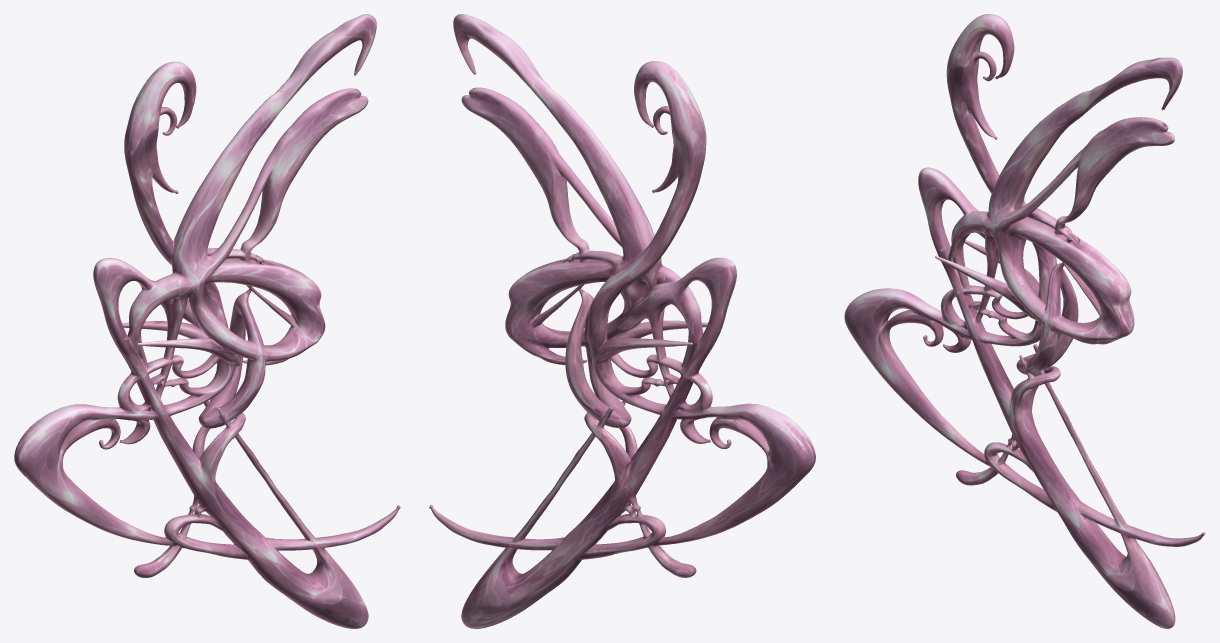
The model's file is embrace.glb.
The picture shows the model from 3 angles, left to right: view 1: azimuth 30°, elevation 25°; view 2: azimuth 150°, elevation 25°; view 3: azimuth 330°, elevation 25°; orthographic projection. The views are drawn at different scales.
Visible parts, largest first — view 1: tripo_node_296e4315-7852-4222-84ea-6aa8c724f146; view 2: tripo_node_296e4315-7852-4222-84ea-6aa8c724f146; view 3: tripo_node_296e4315-7852-4222-84ea-6aa8c724f146.
Part boxes in pixels (left/top/right/bottom): tripo_node_296e4315-7852-4222-84ea-6aa8c724f146: left=14, top=14, right=400, bottom=628; tripo_node_296e4315-7852-4222-84ea-6aa8c724f146: left=429, top=14, right=815, bottom=628; tripo_node_296e4315-7852-4222-84ea-6aa8c724f146: left=844, top=14, right=1205, bottom=628.
Size of the model in its own units: 0.6448 by 0.9789 by 0.0917.
1 material, 1 textured.
